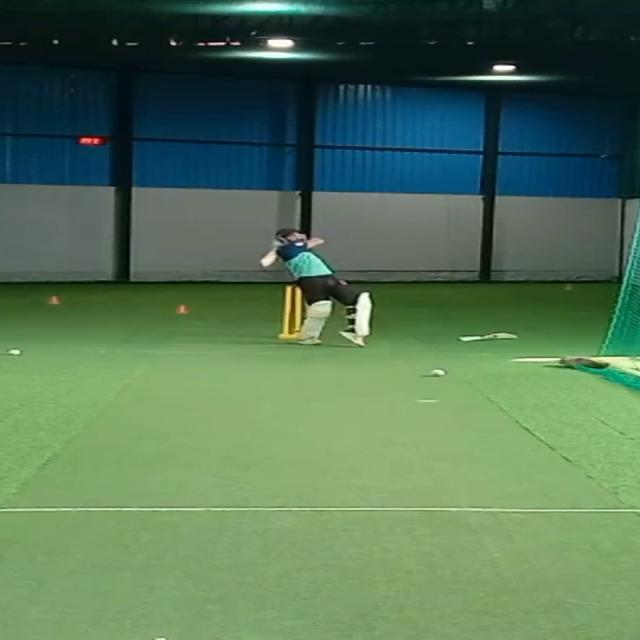ball: (0, 342, 30, 358), (426, 361, 449, 379)
stump: (279, 282, 302, 341)
